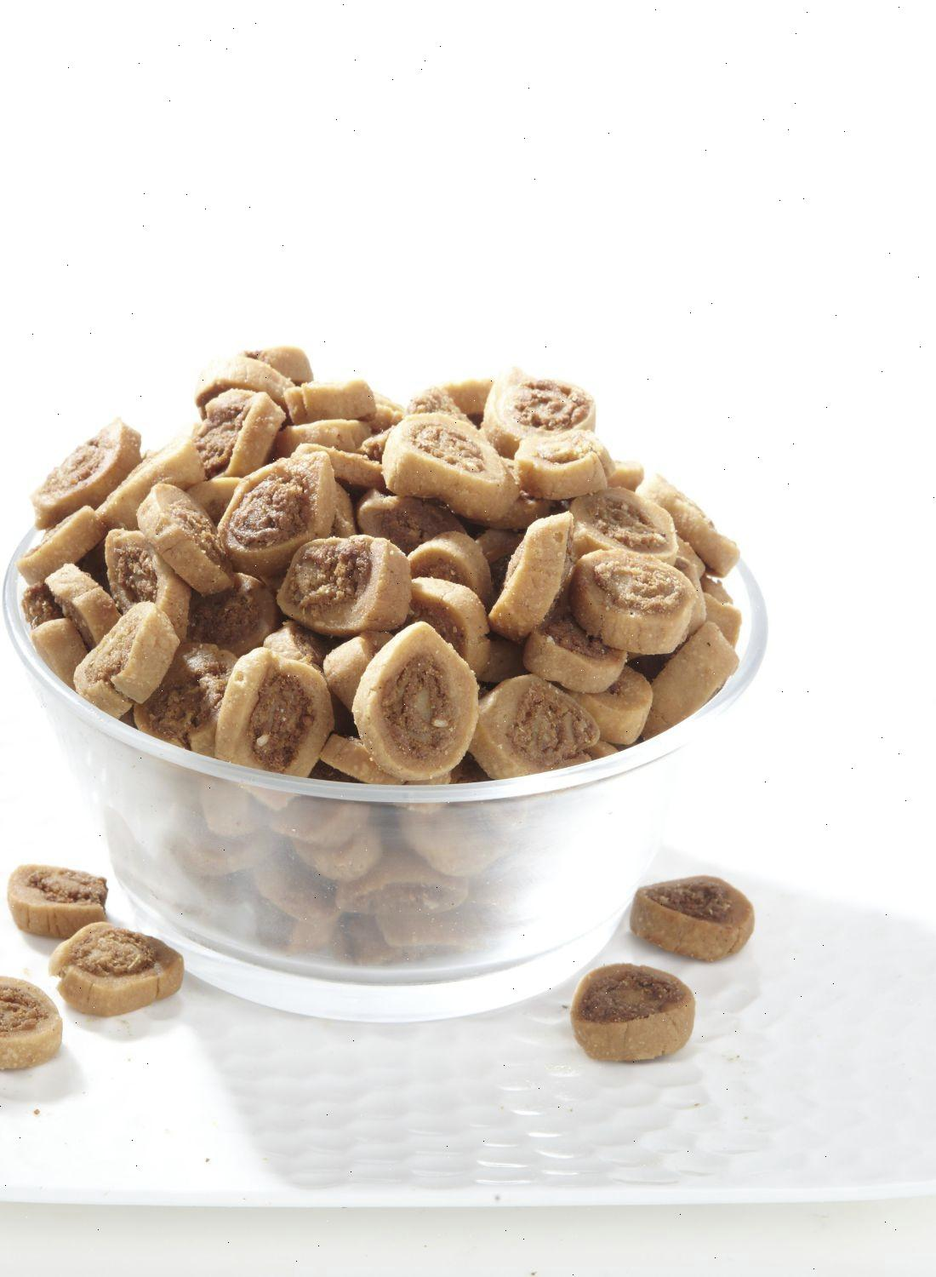bhakarwadi: (11, 341, 757, 798)
